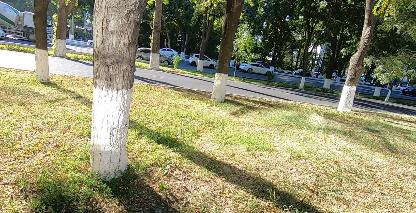tree: (86, 0, 152, 182), (337, 1, 416, 122), (209, 0, 245, 105), (30, 0, 54, 85), (55, 0, 77, 64), (149, 0, 164, 75)
